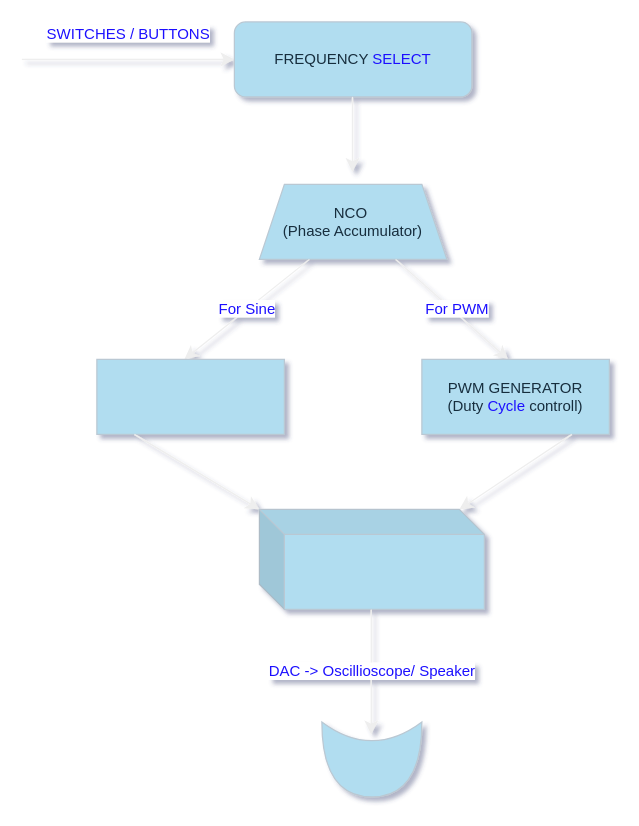
This 639x826 diagram has some shape labels left out. Each missing label, with the centre of its shape:
"SINE WAVE (LUT) (Outputs sample data)" goes at [190,396].
"TOP- LEVEL (Selects output, connects pins)" goes at [371,558].
